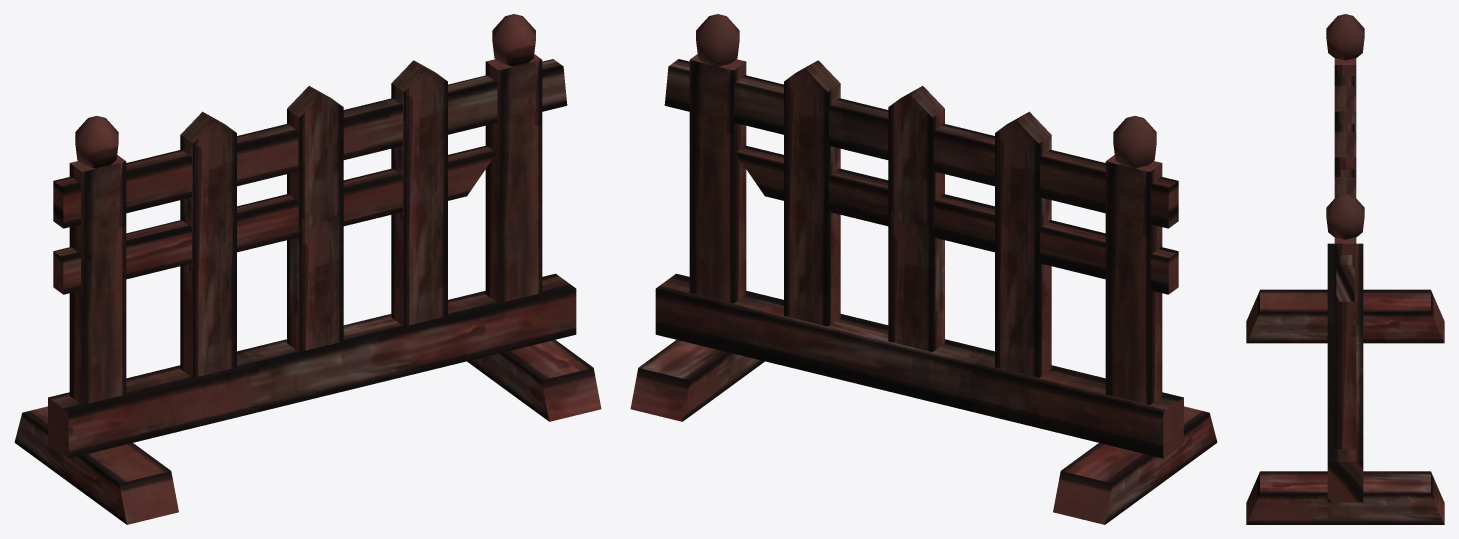
File: STR_RailingWoodB.FBX
3 renders of one model, left to right at view 1: azimuth 30°, elevation 25°; view 2: azimuth 150°, elevation 25°; view 3: azimuth 270°, elevation 25°, orthographic. The views are drawn at different scales.
Visible parts, largest first — view 1: STR_RailingWoodB; view 2: STR_RailingWoodB; view 3: STR_RailingWoodB.
Boxes of the visible parts, x1,y1,x2,y2 form: STR_RailingWoodB: [14, 14, 601, 524]; STR_RailingWoodB: [630, 14, 1217, 524]; STR_RailingWoodB: [1246, 14, 1444, 524].
Size of the model in its own units: 222 by 151 by 85.27.
Materials: 1 (1 with a texture image).
